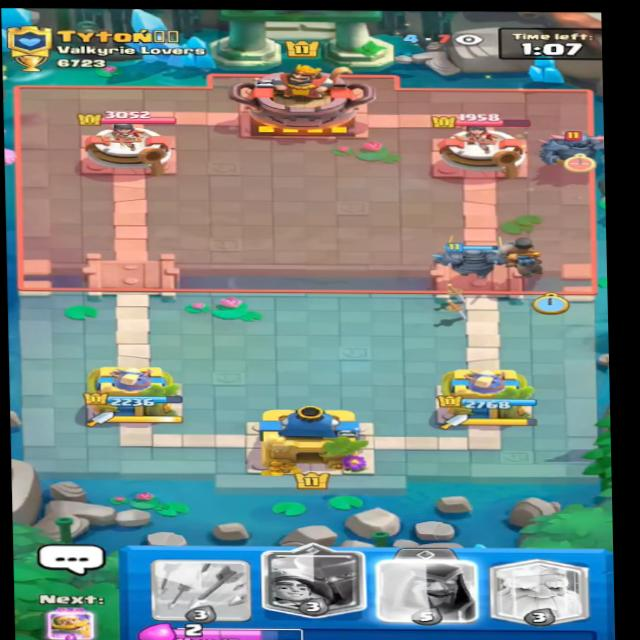pekka: (525, 125, 614, 168)
